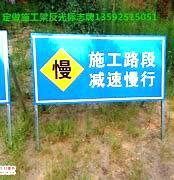sign: (32, 34, 164, 99)
